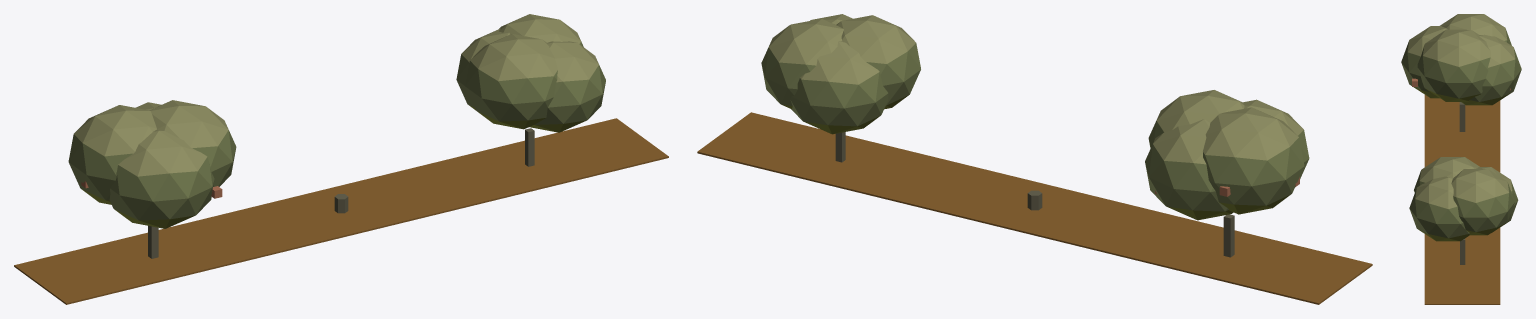
File: SM_Naranjos_v4_Calva_LOD0.fbx
The picture shows the model from 3 angles, left to right: view 1: azimuth 30°, elevation 25°; view 2: azimuth 150°, elevation 25°; view 3: azimuth 270°, elevation 25°; orthographic projection. The views are drawn at different scales.
Parts seen in each view (by area): view 1: SM_viveres_nules_v4_LOD0; view 2: SM_viveres_nules_v4_LOD0; view 3: SM_viveres_nules_v4_LOD0.
Part boxes in pixels (x1=…): SM_viveres_nules_v4_LOD0: x1=14, y1=14, x2=668, y2=304; SM_viveres_nules_v4_LOD0: x1=697, y1=14, x2=1372, y2=304; SM_viveres_nules_v4_LOD0: x1=1401, y1=14, x2=1521, y2=304.
Bounding box in the file's own units: 16 × 3.77 × 3.83.
